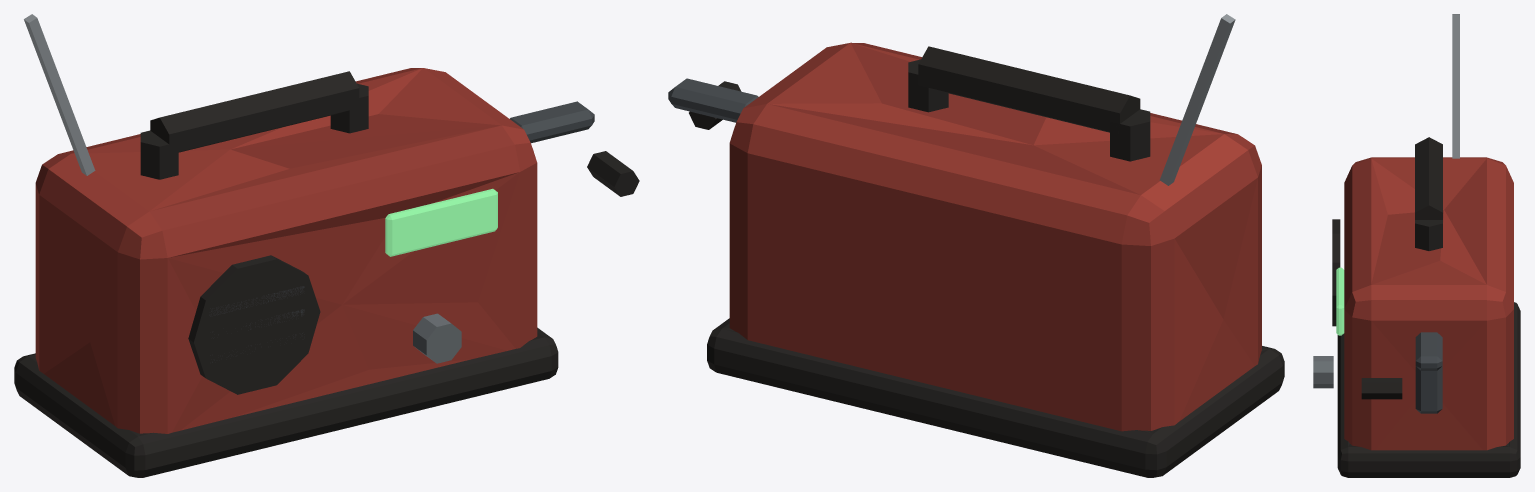
The model's file is radio_desk_ruchnoy_idle.glb.
The picture shows the model from 3 angles, left to right: view 1: azimuth 30°, elevation 25°; view 2: azimuth 150°, elevation 25°; view 3: azimuth 270°, elevation 25°; orthographic projection. The views are drawn at different scales.
Visible parts, largest first — view 1: radio_desk_ruchnoy_idle; view 2: radio_desk_ruchnoy_idle; view 3: radio_desk_ruchnoy_idle.
Boxes of the visible parts, box(x1,y1,x2,y2) form: radio_desk_ruchnoy_idle: box(14, 14, 639, 477); radio_desk_ruchnoy_idle: box(668, 14, 1284, 477); radio_desk_ruchnoy_idle: box(1313, 14, 1520, 477).
Bounding box in the file's own units: 0.3469 × 0.251 × 0.154.
Materials: 2 (2 with a texture image).
